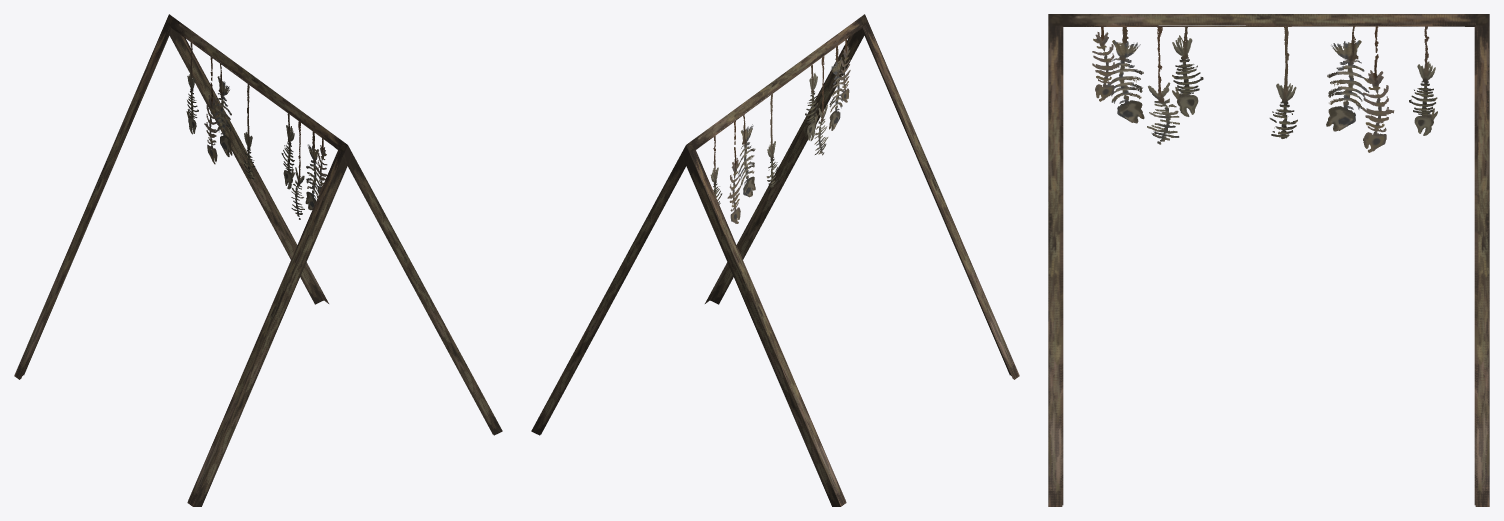
The model's file is Fish_drying_rack01.fbx.
3 renders of one model, left to right at view 1: azimuth 30°, elevation 25°; view 2: azimuth 150°, elevation 25°; view 3: azimuth 270°, elevation 25°, orthographic. The views are drawn at different scales.
Parts seen in each view (by area): view 1: Fish_Drying_Rack01; view 2: Fish_Drying_Rack01; view 3: Fish_Drying_Rack01.
Boxes of the visible parts, <box> form: Fish_Drying_Rack01: <box>14,14,502,506</box>; Fish_Drying_Rack01: <box>531,14,1019,506</box>; Fish_Drying_Rack01: <box>1048,14,1489,506</box>.
Bounding box in the file's own units: 1.9 × 1.91 × 1.9.
1 material, 1 textured.
